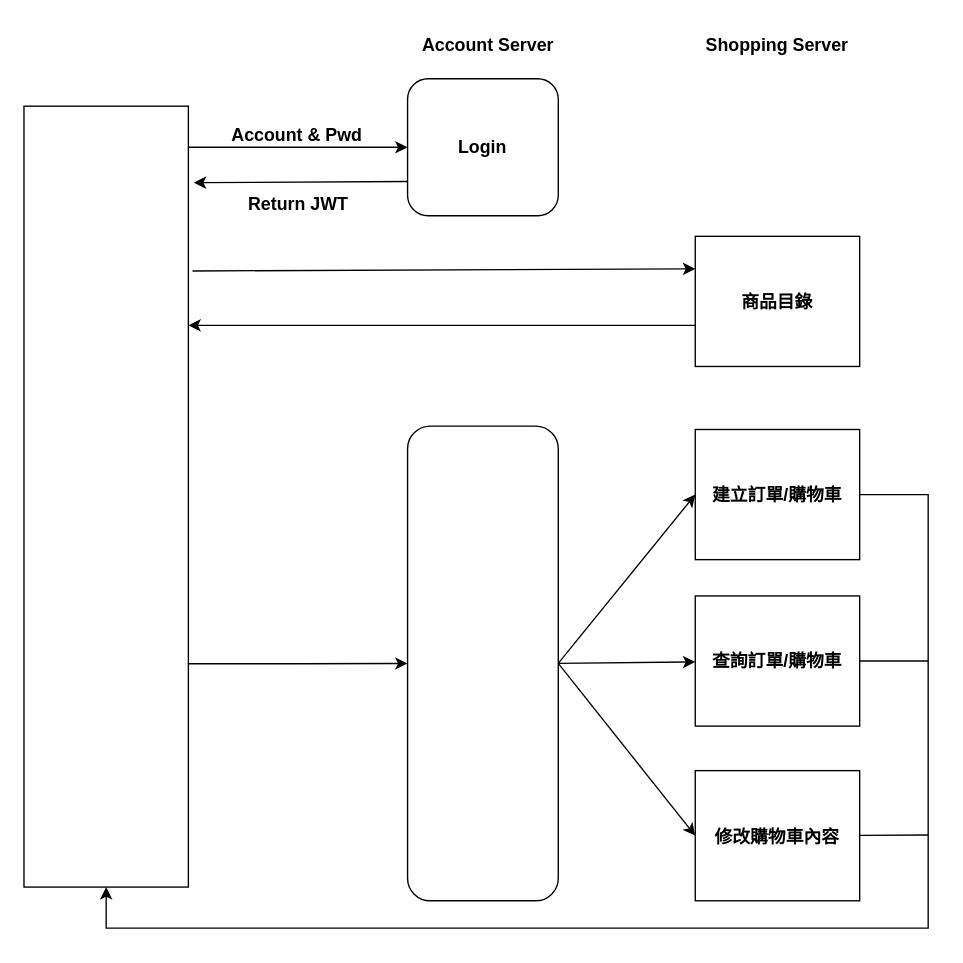
Image size: 963x963. Some labels were removed from this diagram. Here are the shapes that lost their labels. From the top down, the box of each, then its label:
(23, 105, 188, 887): Client
(406, 425, 558, 901): JWT Check
